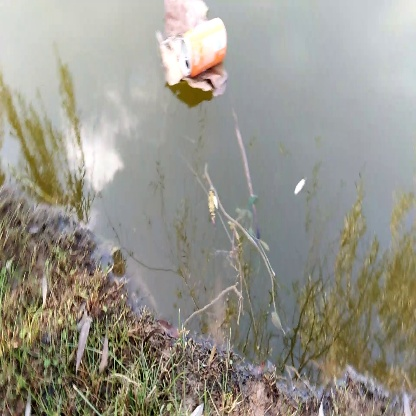bottle: (175, 15, 232, 79)
